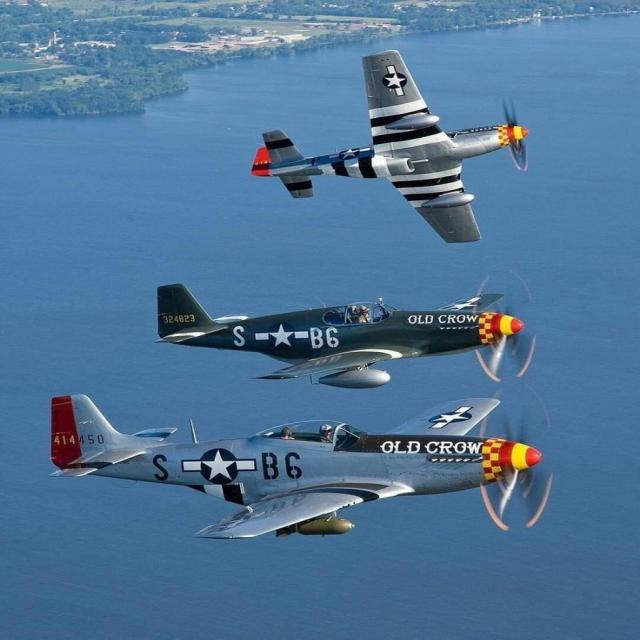iha: (49, 395, 544, 544), (249, 48, 530, 245), (156, 315, 554, 355)
